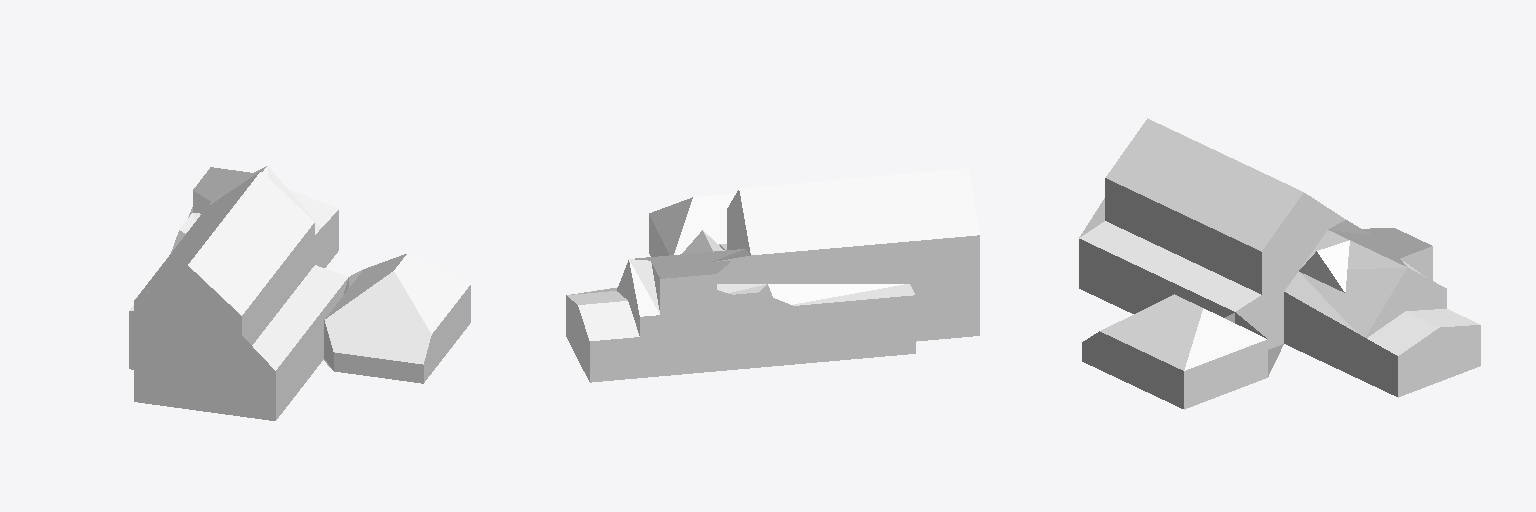
The model's file is house_Shape 296.obj.
3 renders of one model, left to right at view 1: azimuth 30°, elevation 25°; view 2: azimuth 150°, elevation 25°; view 3: azimuth 270°, elevation 25°, orthographic.
Parts seen in each view (by area): view 1: CityEngineMaterial_4, CityEngineMaterial_184, CityEngineMaterial_198, CityEngineMaterial_185, CityEngineMaterial_197; view 2: CityEngineMaterial_184, CityEngineMaterial_4, CityEngineMaterial_199, CityEngineMaterial_197, CityEngineMaterial_198; view 3: CityEngineMaterial_184, CityEngineMaterial_4, CityEngineMaterial_198, CityEngineMaterial_197.
Part boxes in pixels (x1,y1,x2,y2): CityEngineMaterial_4: (130, 166, 470, 370); CityEngineMaterial_184: (129, 191, 470, 420); CityEngineMaterial_198: (134, 265, 241, 334); CityEngineMaterial_185: (334, 352, 423, 383); CityEngineMaterial_197: (193, 166, 331, 368); CityEngineMaterial_184: (566, 215, 979, 382); CityEngineMaterial_4: (567, 168, 979, 340); CityEngineMaterial_199: (716, 235, 979, 276); CityEngineMaterial_197: (635, 249, 950, 338); CityEngineMaterial_198: (660, 190, 750, 294); CityEngineMaterial_184: (1079, 178, 1480, 409); CityEngineMaterial_4: (1079, 118, 1479, 370); CityEngineMaterial_198: (1262, 193, 1345, 269); CityEngineMaterial_197: (1225, 220, 1431, 376).
Bounding box in the file's own units: 19.31 × 7.95 × 20.09.